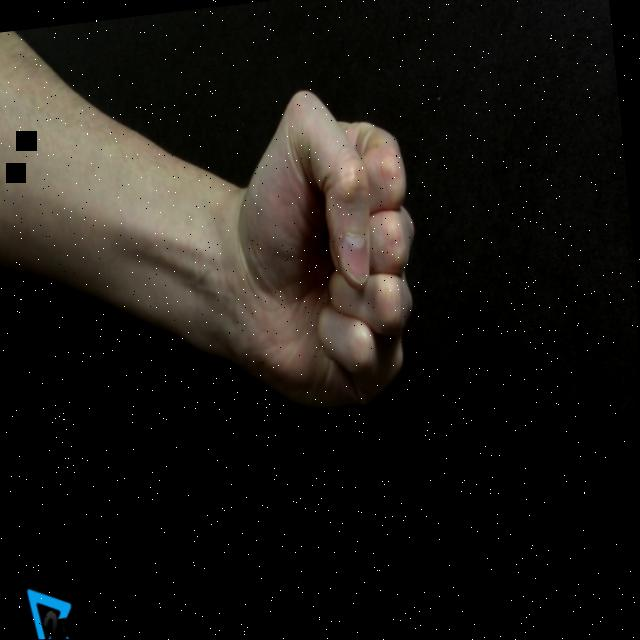Rock: (218, 68, 433, 420)
